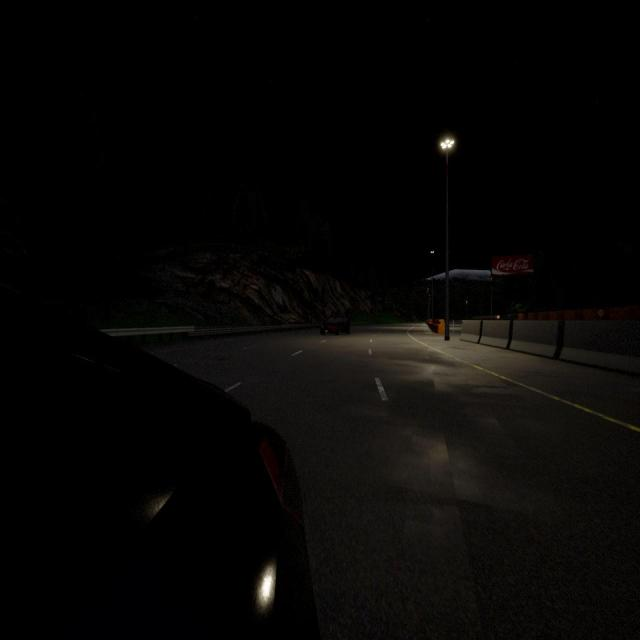Traffic_Signs: (597, 309, 604, 317), (496, 315, 500, 319)
Vehicle: (0, 289, 318, 639), (320, 314, 351, 336)
